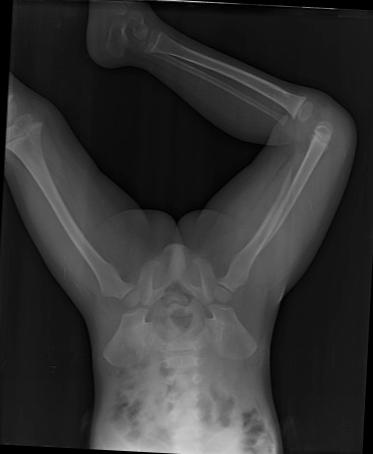fractured: (254, 157, 301, 250)
